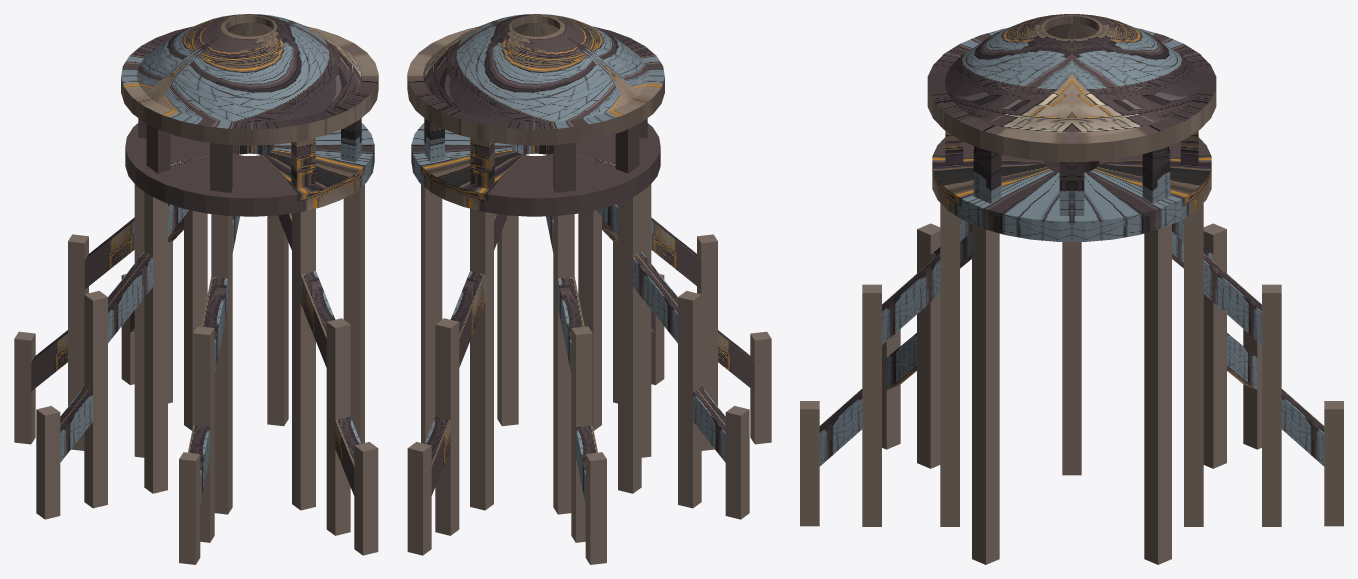
Rendered from back_side.fbx.
3 views of the same model, side by side, from view 1: azimuth 30°, elevation 25°; view 2: azimuth 150°, elevation 25°; view 3: azimuth 270°, elevation 25° (orthographic). The views are drawn at different scales.
Visible parts, largest first — view 1: Circle.031, chamber.001; view 2: Circle.031, chamber.001; view 3: Circle.031, chamber.001.
Boxes of the visible parts, bbox=[...] form: Circle.031: bbox=[14, 184, 378, 564]; chamber.001: bbox=[121, 14, 378, 216]; Circle.031: bbox=[407, 184, 771, 564]; chamber.001: bbox=[407, 14, 664, 216]; Circle.031: bbox=[800, 203, 1343, 564]; chamber.001: bbox=[927, 14, 1216, 241].
Size of the model in its own units: 62955 by 82607 by 82254.
